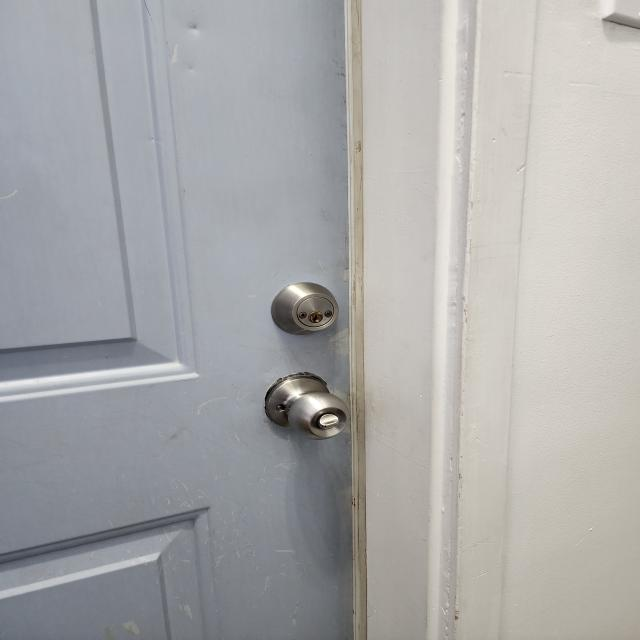door-knob: (262, 374, 349, 441)
